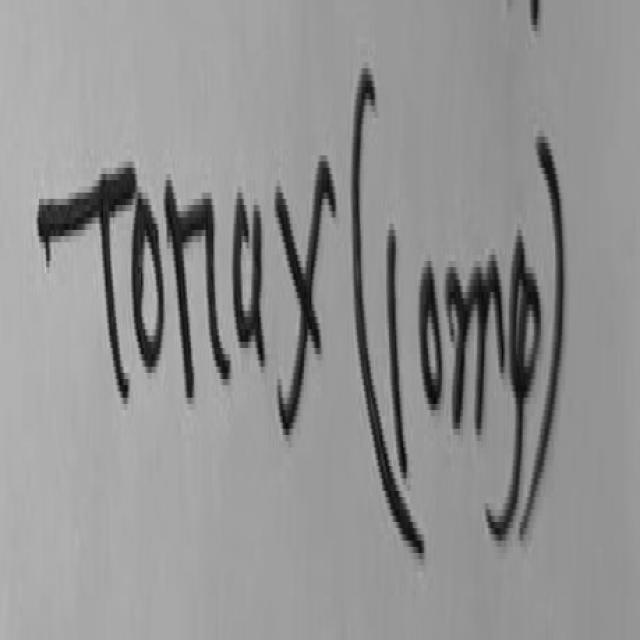0: (421, 261, 443, 404)
1: (388, 224, 407, 475)
T: (38, 168, 135, 395)
a: (233, 193, 265, 357)
g: (488, 236, 542, 537)
m: (446, 258, 506, 429)
o: (132, 193, 163, 367)
r: (165, 180, 230, 395)
x: (276, 155, 336, 432)
